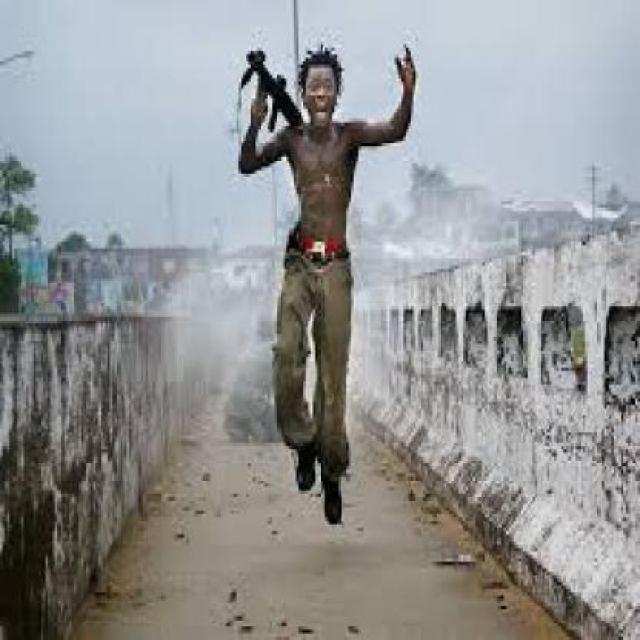weapon: (221, 31, 313, 146)
